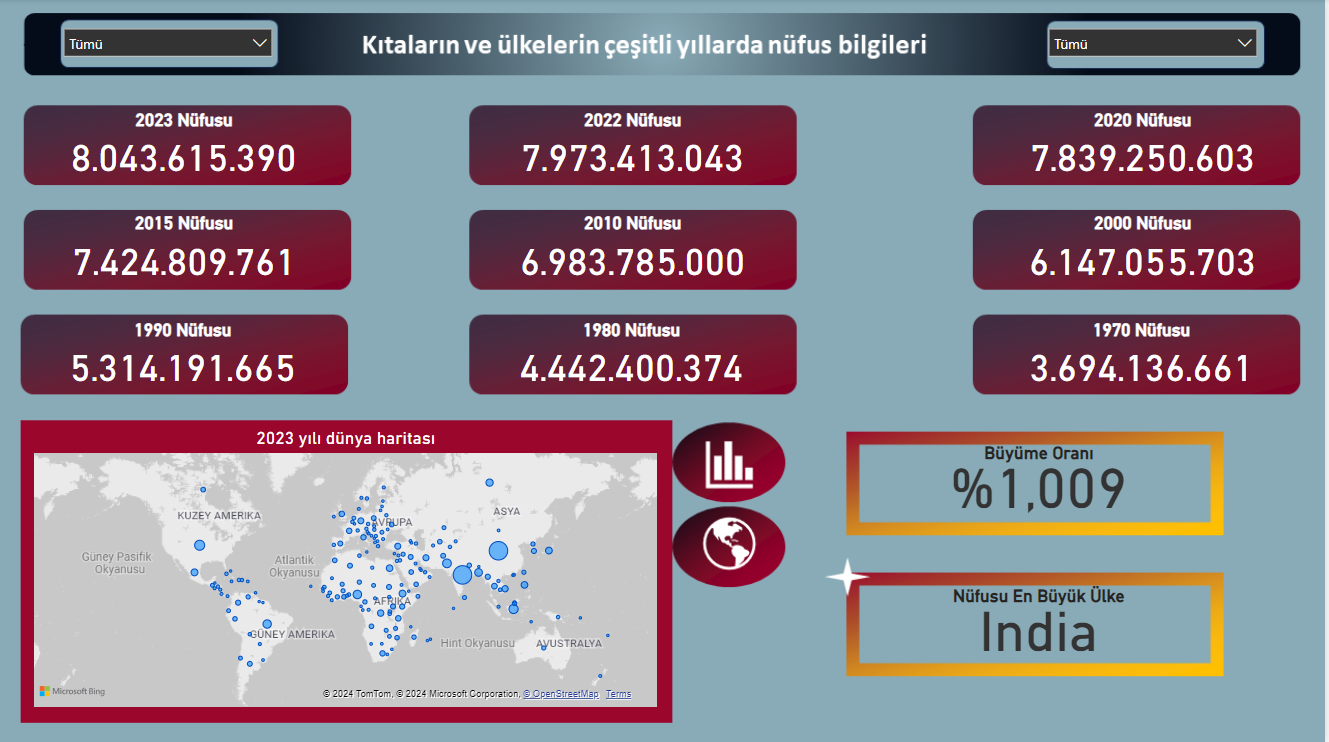

What the dashboard file says about the page in this screenshot:
{"tool":"powerbi","page":{"name":"1. sayfa","canvas":[1280,720],"ordinal":0},"visuals":[{"type":"slicer","title":"Kıtalar","fields":{"Values":["nufüs.continent"]},"box":[52.1,17.8,222.3,61.7],"z":0},{"type":"card","title":"2023 Nüfusu","fields":{"Values":["Sum(nufüs.2023 population)"]},"box":[41,106.1,275,68.7],"z":0,"group":"g1"},{"type":"card","title":"2015 Nüfusu","fields":{"Values":["Sum(nufüs.2015 population)"]},"box":[41,206.2,275,68.7],"z":0,"group":"g2"},{"type":"card","title":"1990 Nüfusu","fields":{"Values":["Sum(nufüs.1990 population)"]},"box":[39.8,308.7,275,68.7],"z":0,"group":"g3"},{"type":"slicer","title":"Kıtalar","fields":{"Values":["nufüs.country"]},"box":[1003.1,17.8,222.3,61.7],"z":1000},{"type":"card","title":"2022 Nüfusu","fields":{"Values":["Sum(nufüs.2022 population)"]},"box":[474,106.1,275,68.7],"z":1000,"group":"g1"},{"type":"card","title":"2010 Nüfusu","fields":{"Values":["Sum(nufüs.2010 population)"]},"box":[474,206.2,275,68.7],"z":1000,"group":"g2"},{"type":"card","title":"1980 Nüfusu","fields":{"Values":["Sum(nufüs.1980 population)"]},"box":[472.8,308.7,275,68.7],"z":1000,"group":"g3"},{"type":"group","id":"g1","title":"Grup 1","box":[41,106.1,1200,68.7],"z":2000},{"type":"card","title":"2020 Nüfusu","fields":{"Values":["Sum(nufüs.2020 population)"]},"box":[966,106.1,275,68.7],"z":2000,"group":"g1"},{"type":"card","title":"2000 Nüfusu","fields":{"Values":["Sum(nufüs.2000 population)"]},"box":[966,206.2,275,68.7],"z":2000,"group":"g2"},{"type":"card","title":"1970 Nüfusu","fields":{"Values":["Sum(nufüs.1970 population)"]},"box":[964.8,308.7,275,68.7],"z":2000,"group":"g3"},{"type":"group","id":"g2","title":"Grup 1","box":[41,206.2,1200,68.7],"z":3000},{"type":"group","id":"g3","title":"Grup 1","box":[39.8,308.7,1200,68.7],"z":4000},{"type":"card","title":"Büyüme Oranı","fields":{"Values":["nufüs.Büyüme Oranı"]},"box":[832.2,428.1,342.5,77.2],"z":6000},{"type":"card","title":"Nüfusu En Büyük Ülke","fields":{"Values":["Min(nufüs.country)"]},"box":[832.2,565.6,342.5,77.2],"z":7000},{"type":"columnChart","fields":{"Category":["nufüs.country"],"Y":["Sum(nufüs.2023 population)"]},"box":[26.5,411.3,615.1,281],"z":8000},{"type":"actionButton","box":[656.3,410.4,98.7,72.7],"z":9000},{"type":"actionButton","box":[656.3,493.5,98.7,72.7],"z":10000}]}

Visuals, with their boxes in screenshot pixels (x1, y1, x2, y2), scaled from the page's 1280x720 canvas onto the 1329x742 screenshot:
"Kıtalar" slicer: 54, 18, 285, 82
"2023 Nüfusu" card: 43, 109, 328, 180
"2015 Nüfusu" card: 43, 213, 328, 283
"1990 Nüfusu" card: 41, 318, 327, 389
"Kıtalar" slicer: 1041, 18, 1272, 82
"2022 Nüfusu" card: 492, 109, 778, 180
"2010 Nüfusu" card: 492, 213, 778, 283
"1980 Nüfusu" card: 491, 318, 776, 389
"Grup 1" group: 43, 109, 1289, 180
"2020 Nüfusu" card: 1003, 109, 1289, 180
"2000 Nüfusu" card: 1003, 213, 1289, 283
"1970 Nüfusu" card: 1002, 318, 1287, 389
"Grup 1" group: 43, 213, 1289, 283
"Grup 1" group: 41, 318, 1287, 389
"Büyüme Oranı" card: 864, 441, 1220, 521
"Nüfusu En Büyük Ülke" card: 864, 583, 1220, 662
columnChart - nufüs.country x Sum(nufüs.2023 population): 28, 424, 666, 713
actionButton: 681, 423, 784, 498
actionButton: 681, 509, 784, 584
